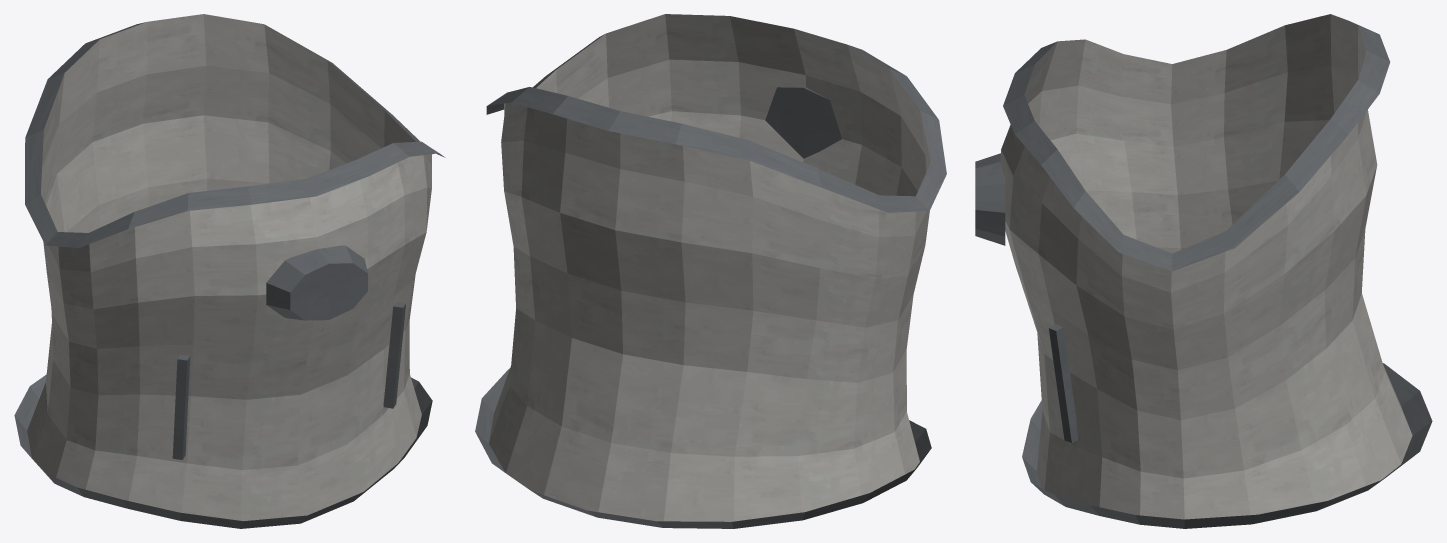
The model's file is eq_future_1_chest.glb.
3 renders of one model, left to right at view 1: azimuth 30°, elevation 25°; view 2: azimuth 150°, elevation 25°; view 3: azimuth 270°, elevation 25°, orthographic. The views are drawn at different scales.
Visible parts, largest first — view 1: eq_future_1_chest; view 2: eq_future_1_chest; view 3: eq_future_1_chest.
Boxes of the visible parts, x1=… form: eq_future_1_chest: x1=14, y1=14, x2=445, y2=528; eq_future_1_chest: x1=475, y1=14, x2=946, y2=528; eq_future_1_chest: x1=975, y1=14, x2=1432, y2=528.
Size of the model in its own units: 0.4261 by 0.4118 by 0.4058.
Materials: 2 (2 with a texture image).
